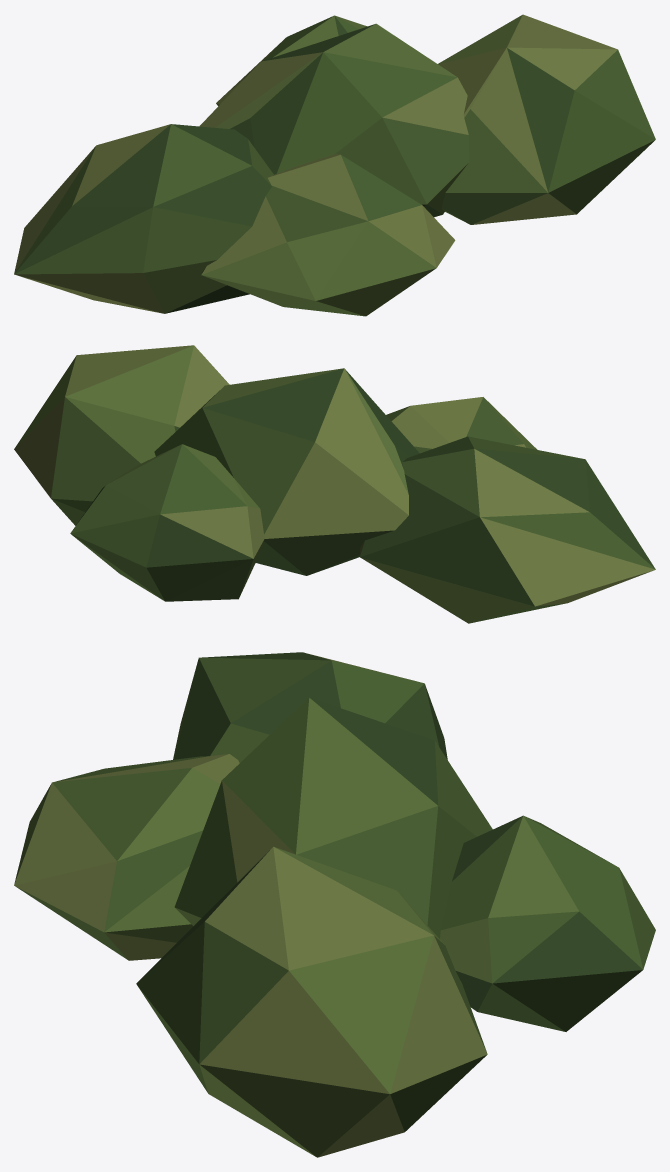
Rendered from Bush_02_Spreading.obj.
3 renders of one model, top to bottom at view 1: azimuth 30°, elevation 25°; view 2: azimuth 150°, elevation 25°; view 3: azimuth 270°, elevation 25°, orthographic. The views are drawn at different scales.
Parts seen in each view (by area): view 1: Bush_02_Spreading; view 2: Bush_02_Spreading; view 3: Bush_02_Spreading.
Part boxes in pixels (x1,y1,x2,y2): Bush_02_Spreading: (14, 14, 655, 316); Bush_02_Spreading: (14, 345, 655, 623); Bush_02_Spreading: (14, 652, 655, 1157).
Bounding box in the file's own units: 2.23 × 0.6917 × 1.45.
Materials: 1 (1 with a texture image).
